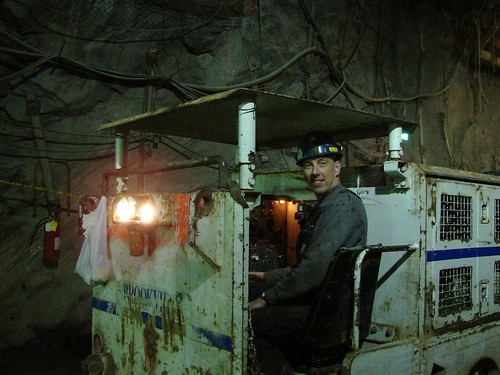person hardhat: (250, 128, 372, 358)
